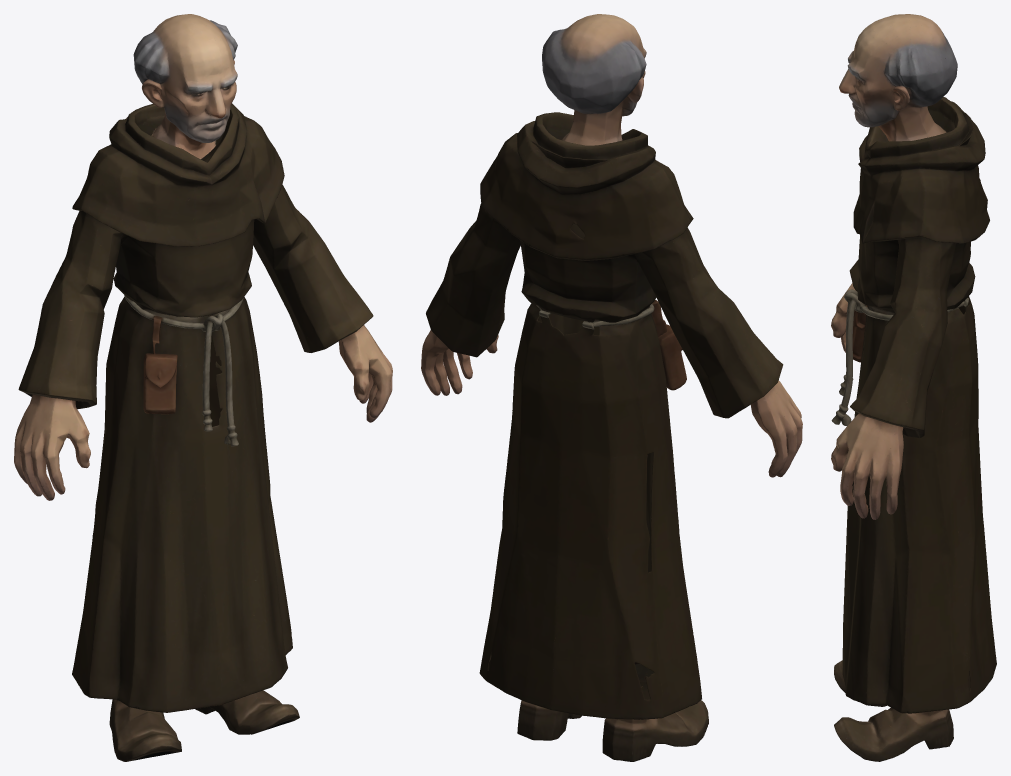
Rendered from clerk.glb.
3 renders of one model, left to right at view 1: azimuth 30°, elevation 25°; view 2: azimuth 150°, elevation 25°; view 3: azimuth 270°, elevation 25°, orthographic.
Parts seen in each view (by area): view 1: world; view 2: world; view 3: world.
Part boxes in pixels (bbox=[...]): world: bbox=[14, 14, 392, 761]; world: bbox=[421, 14, 802, 761]; world: bbox=[831, 14, 996, 761].
Size of the model in its own units: 0.5386 by 1 by 0.2139.
Materials: 1 (1 with a texture image).
